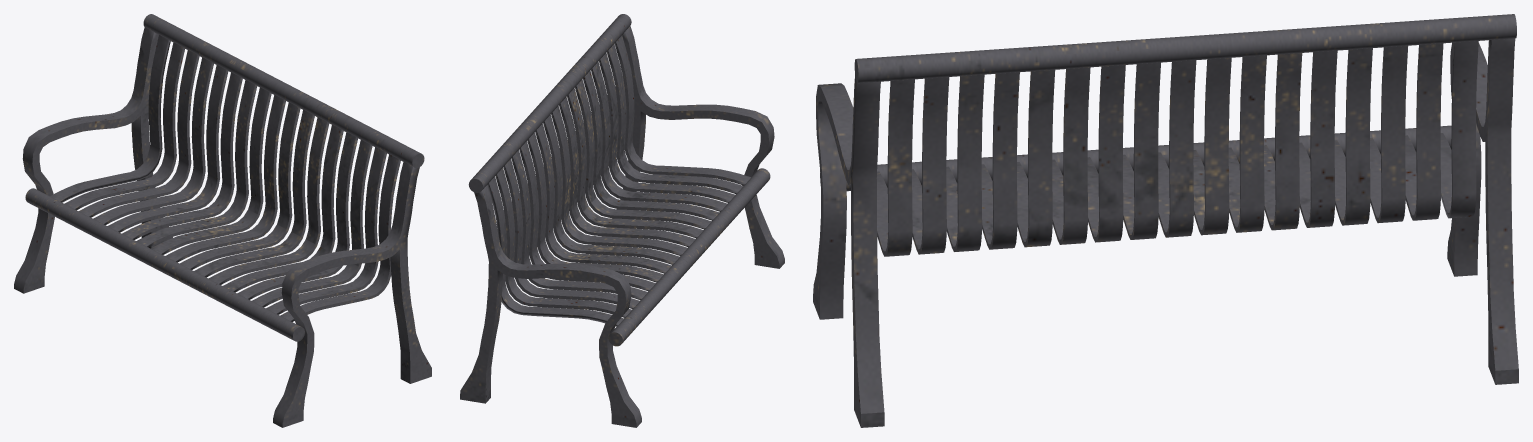
The model's file is bench2.glb.
3 views of the same model, side by side, from view 1: azimuth 30°, elevation 25°; view 2: azimuth 150°, elevation 25°; view 3: azimuth 270°, elevation 25° (orthographic). The views are drawn at different scales.
Parts seen in each view (by area): view 1: ParkBenchShort_ParkBenchShort_shader_0; view 2: ParkBenchShort_ParkBenchShort_shader_0; view 3: ParkBenchShort_ParkBenchShort_shader_0.
Part boxes in pixels (x1,y1,x2,y2): ParkBenchShort_ParkBenchShort_shader_0: [14, 14, 431, 427]; ParkBenchShort_ParkBenchShort_shader_0: [460, 14, 784, 427]; ParkBenchShort_ParkBenchShort_shader_0: [813, 14, 1518, 427].
Size of the model in its own units: 1.1 by 1.07 by 1.92.
Materials: 1 (1 with a texture image).
